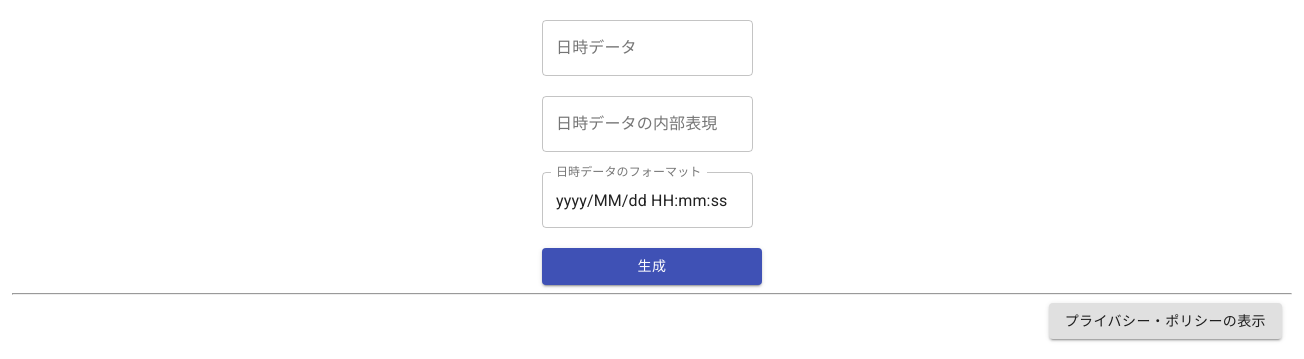
Test case: 日時データのフォーマットの変更が、日時データに反映する › 日時データのフォーマットの変更が、日時データ(April 16th Friday)に反映する
This screenshot has width=1304, height=359.
Replace the text in the field labelled "日時データのフォーマット" with "MMMM do EEEE" at (648, 200), box 542,172 -> 753,228
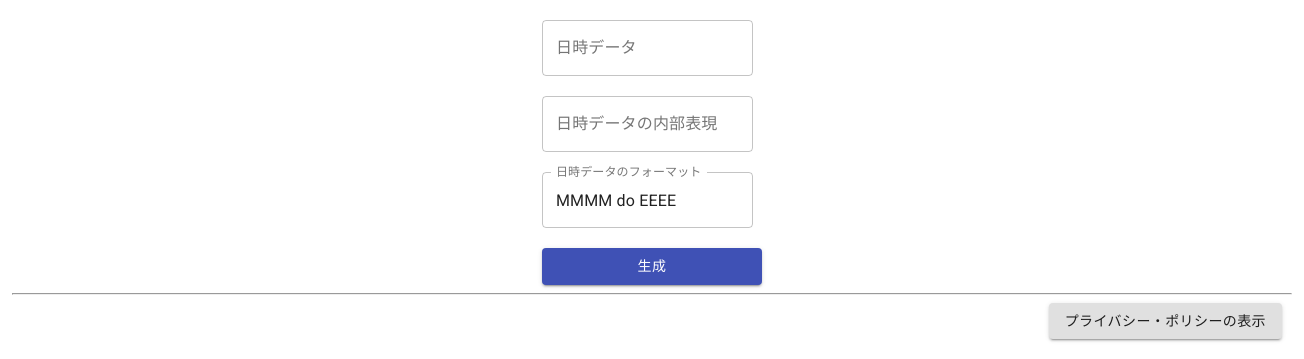
Click the button "生成" at (652, 266), box 542,248 -> 762,284
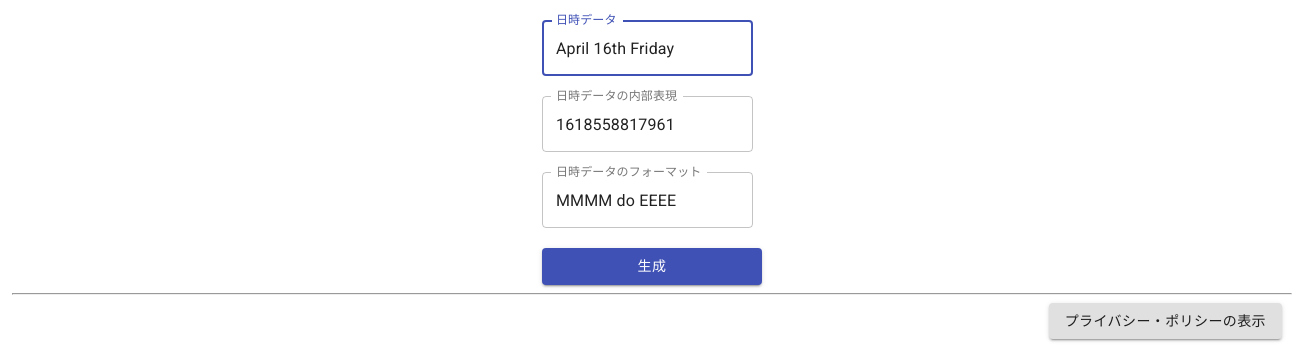
Expected: the field labelled "日時データ" holds "April 16th Friday", 542,20 -> 753,76
